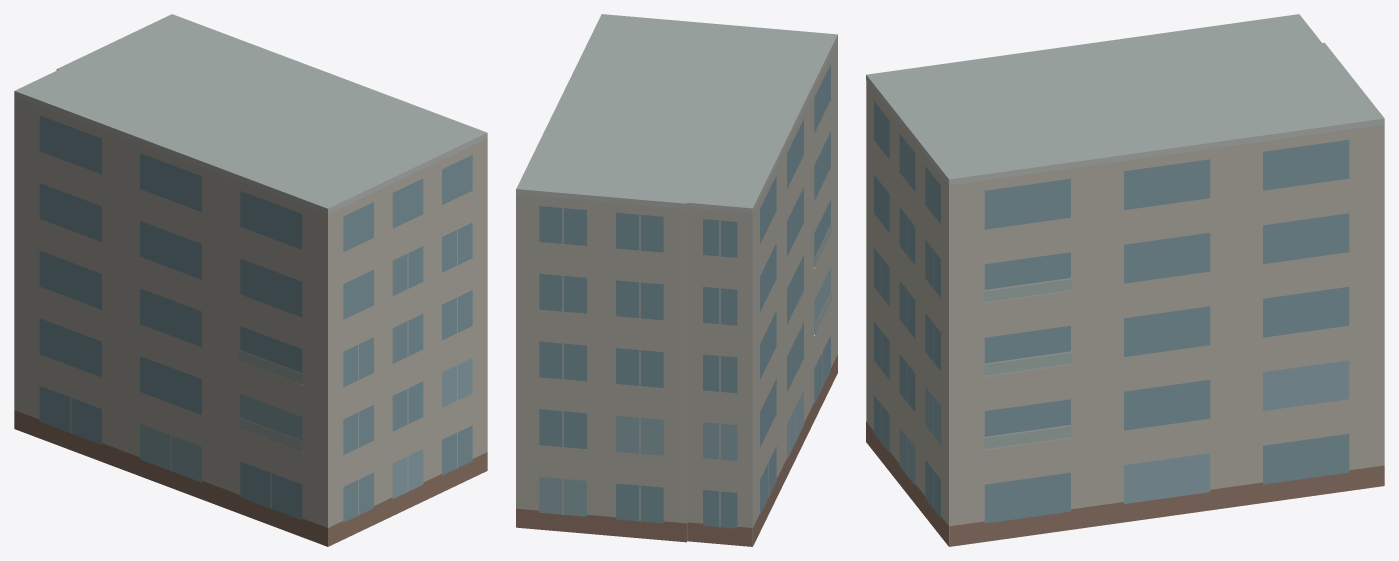
File: survey-upis-32619881.glb
3 views of the same model, side by side, from view 1: azimuth 30°, elevation 25°; view 2: azimuth 150°, elevation 25°; view 3: azimuth 270°, elevation 25° (orthographic). The views are drawn at different scales.
Visible parts, largest first — view 1: survey-upis-32619881.tmp; view 2: survey-upis-32619881.tmp; view 3: survey-upis-32619881.tmp.
Boxes of the visible parts, <box> form: survey-upis-32619881.tmp: <box>14,14,487,546</box>; survey-upis-32619881.tmp: <box>516,14,837,546</box>; survey-upis-32619881.tmp: <box>866,14,1384,546</box>.
Bounding box in the file's own units: 14.6 × 15.1 × 19.32.
